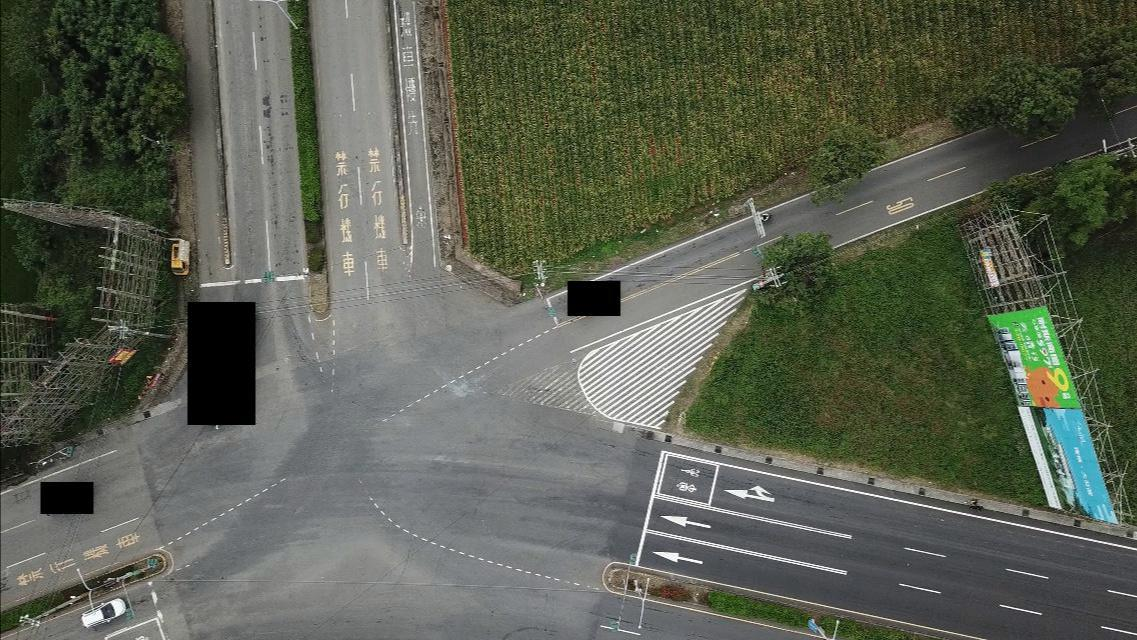vehicle: (82, 597, 128, 629), (169, 242, 190, 277)
